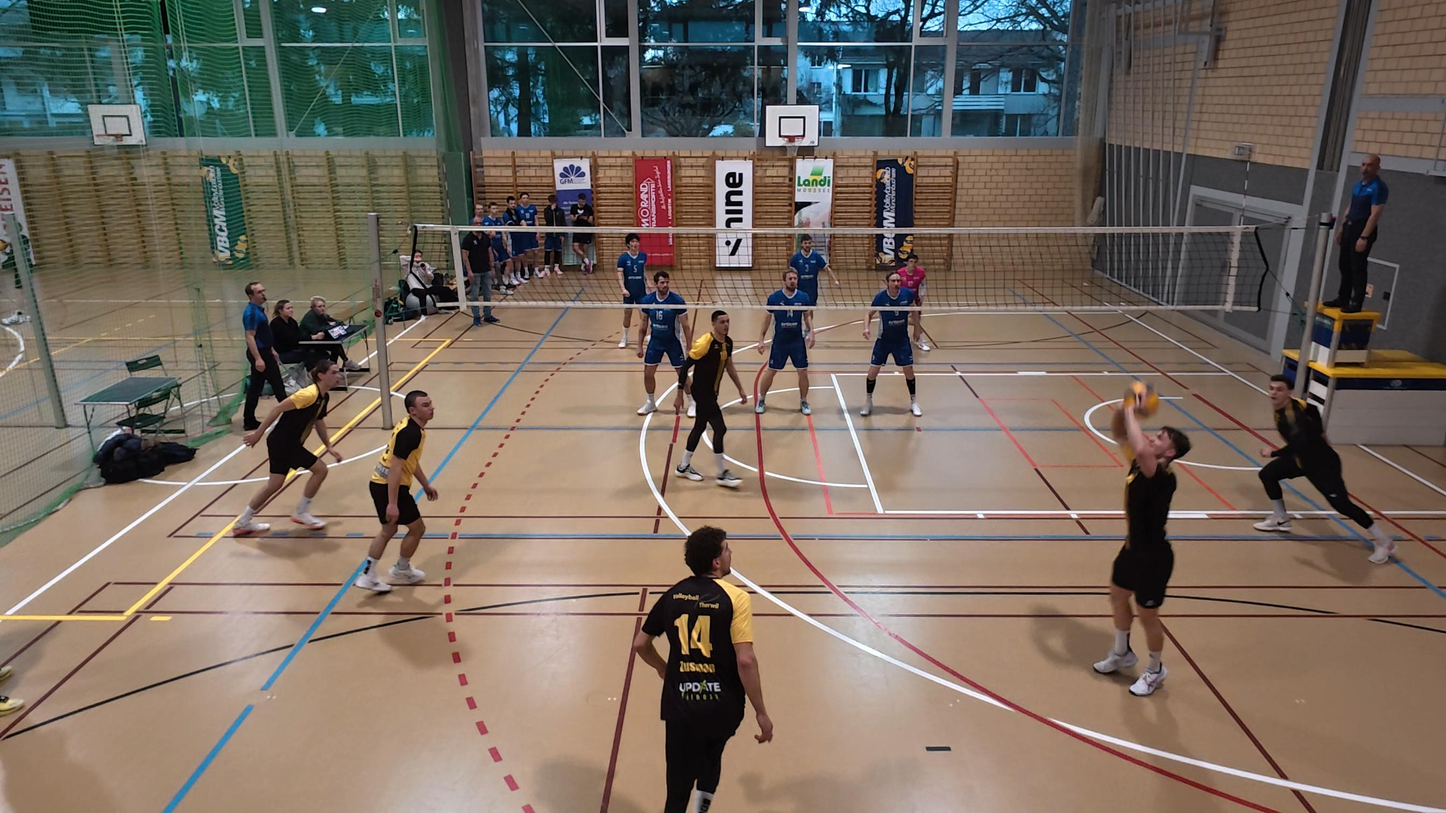alzata: (1089, 395, 1193, 699)
